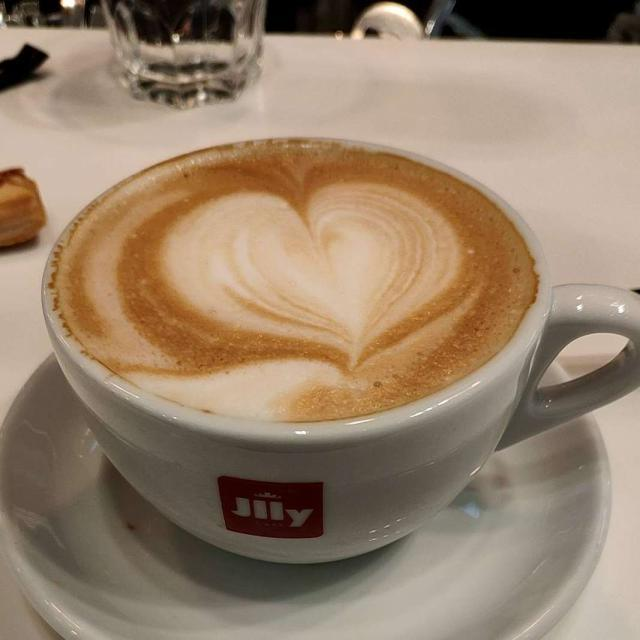cappuccino: (59, 146, 531, 416)
